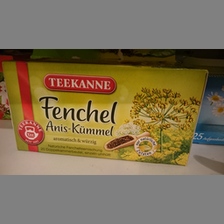tea: (2, 57, 209, 165)
